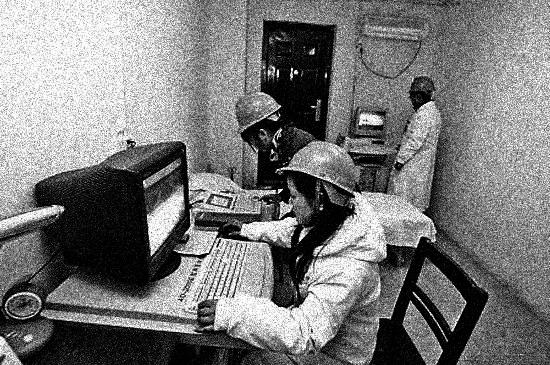helmet: (274, 140, 357, 224), (232, 91, 284, 150), (404, 75, 437, 107)
